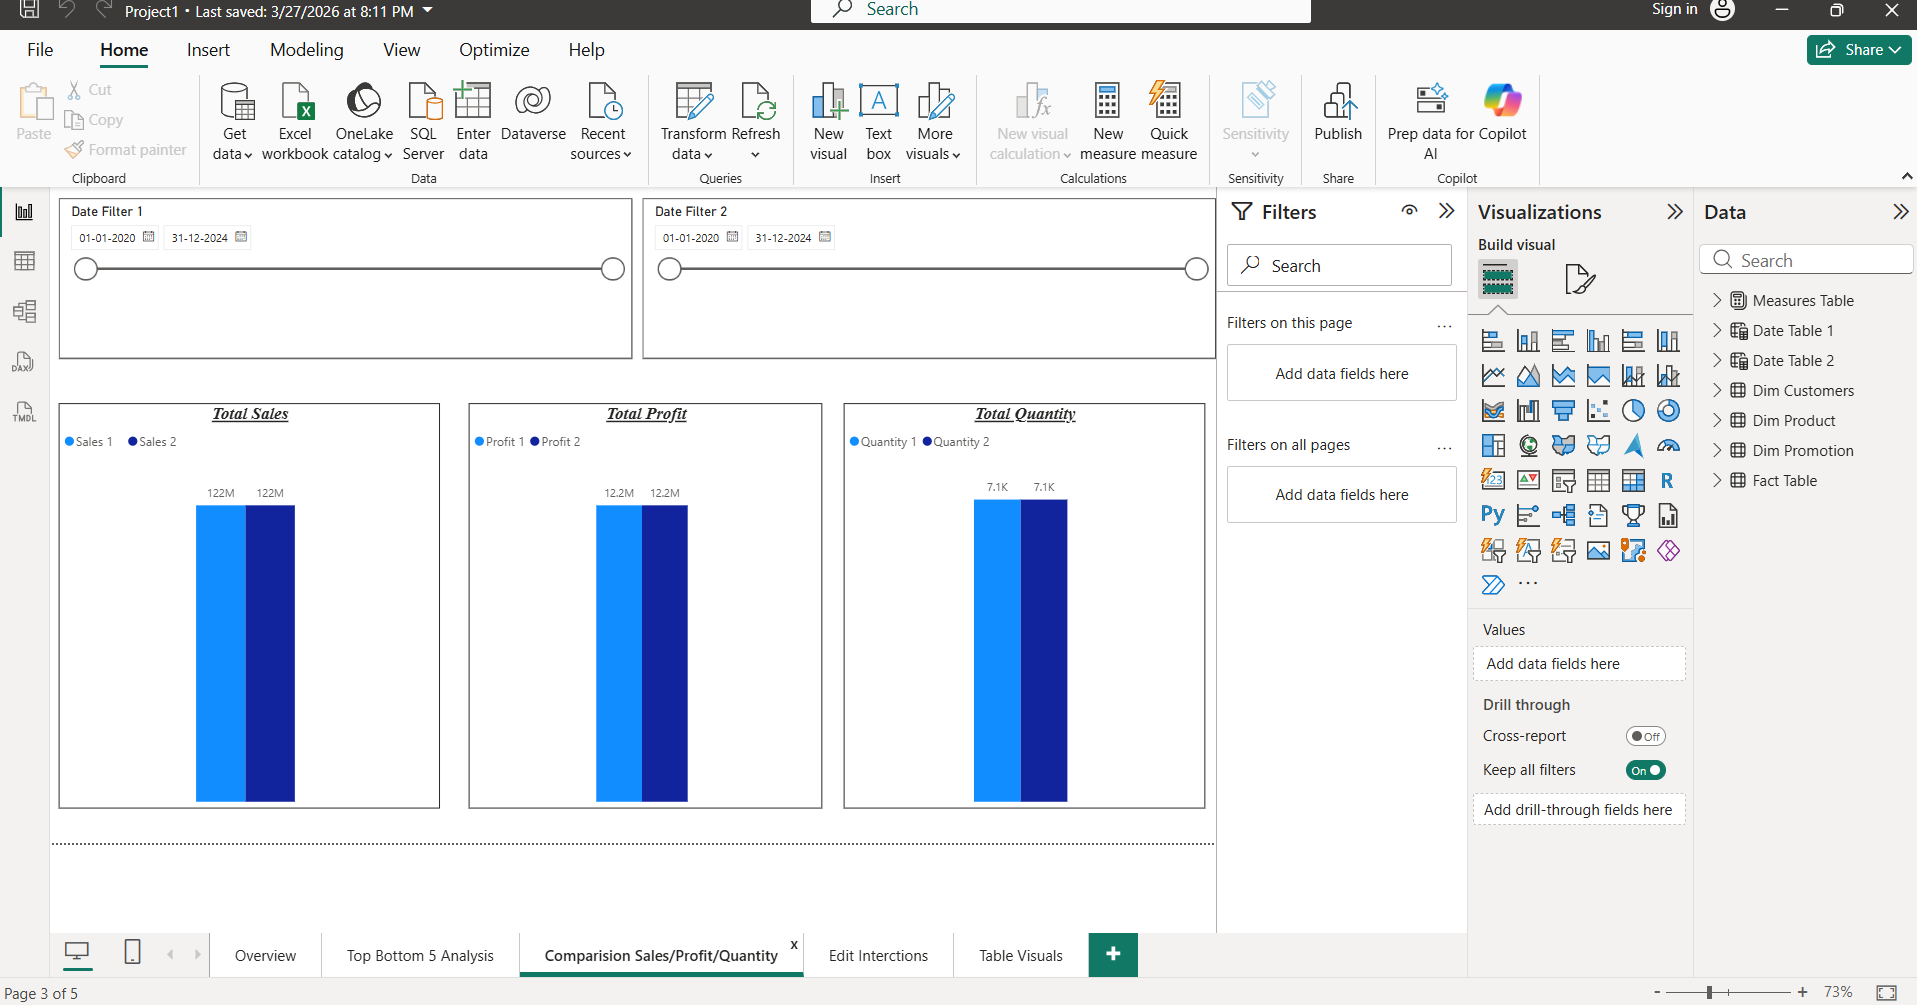

This screenshot's page, from the dashboard's own definition file:
{"tool":"powerbi","page":{"name":"Comparision Sales/Profit/Quantity","canvas":[1280,720],"ordinal":2},"visuals":[{"type":"slicer","fields":{"Values":["Date Table 1.Date"]},"box":[9.6,12.3,629.8,175.6],"z":0},{"type":"slicer","fields":{"Values":["Date Table 2.Date"]},"box":[650.4,12.3,629.8,175.6],"z":1000},{"type":"clusteredColumnChart","title":"Total Sales","fields":{"Y":["Sum(Fact Table.Net Sales   )","Date Table 1.Sum of Net Sales"]},"box":[9.6,237.4,418.5,444.6],"z":2000},{"type":"clusteredColumnChart","title":"Total Profit","fields":{"Y":["Sum(Fact Table.Profit)","Measures Table.Total Profit"]},"box":[459.7,237.4,388.3,444.6],"z":3000},{"type":"clusteredColumnChart","title":"Total Quantity","fields":{"Y":["Sum(Fact Table.Units Sold)","Measures Table.Total Quantity Sold"]},"box":[871.4,237.4,396.6,444.6],"z":4000}]}

Visuals, with their boxes on the page's 1280x720 design canvas (x1, y1, x2, y2). These are canvas units, not pixel positions in the 1917x1005 screenshot, which may show the page scaled, cropped or inside an application window:
slicer - Date Table 1.Date: region(10, 12, 639, 188)
slicer - Date Table 2.Date: region(650, 12, 1280, 188)
"Total Sales" clusteredColumnChart: region(10, 237, 428, 682)
"Total Profit" clusteredColumnChart: region(460, 237, 848, 682)
"Total Quantity" clusteredColumnChart: region(871, 237, 1268, 682)
